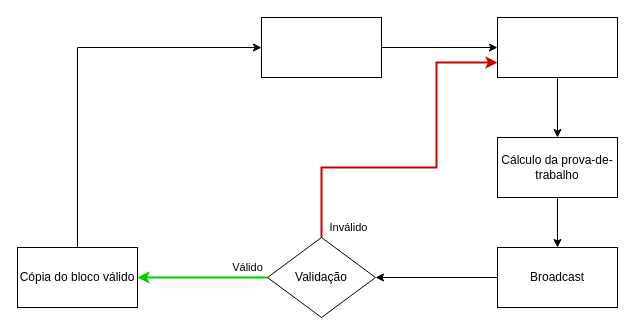
The diagram is 635 pixels wide and 335 high, and some of its shapes have lost their labels. Here are the shapes that lost their labels. From the top down, the box of each, then its label:
(260, 16, 382, 78): Aguarde 10 minutos
(496, 16, 618, 78): Sorteio
